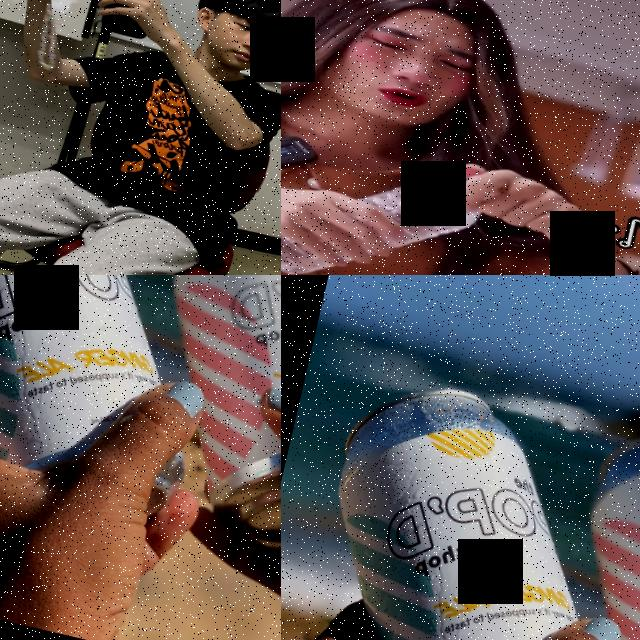bottle: (281, 132, 495, 275)
can: (285, 365, 640, 640), (0, 275, 245, 524), (118, 275, 281, 568)
